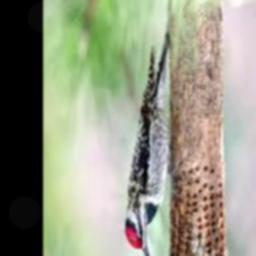Woodpecker: (126, 27, 172, 256)
